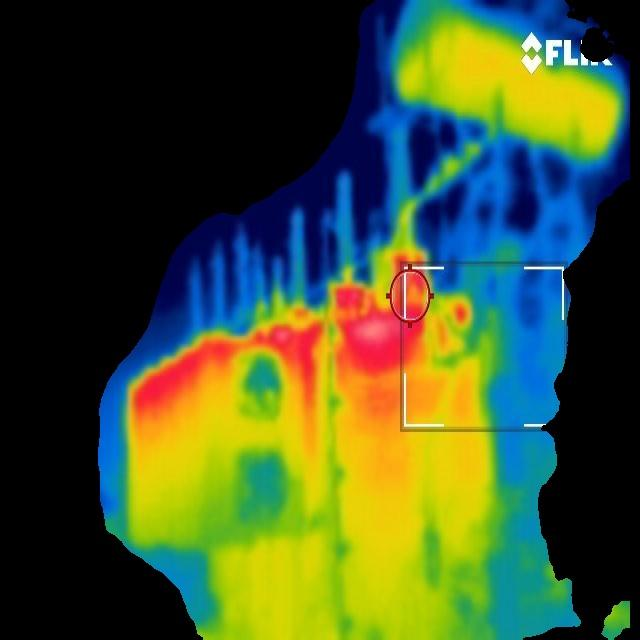Full Wire Overload PF: (397, 132, 496, 257)
Transformer Overload: (124, 275, 502, 564)
